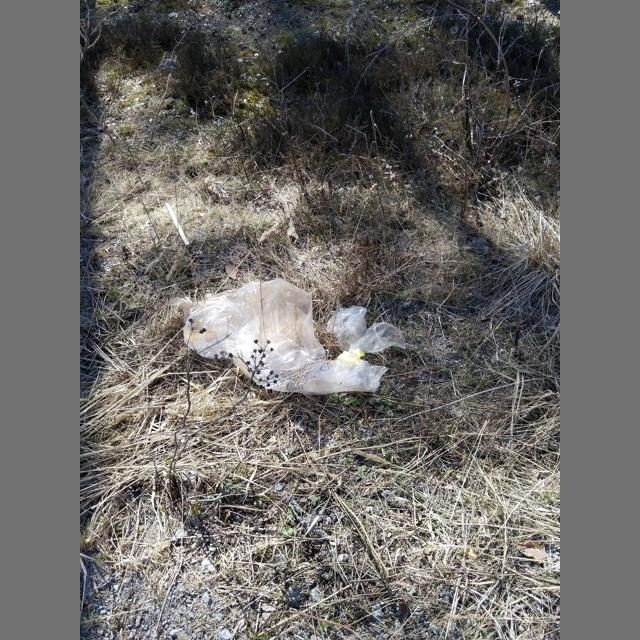litter: (169, 278, 406, 395)
